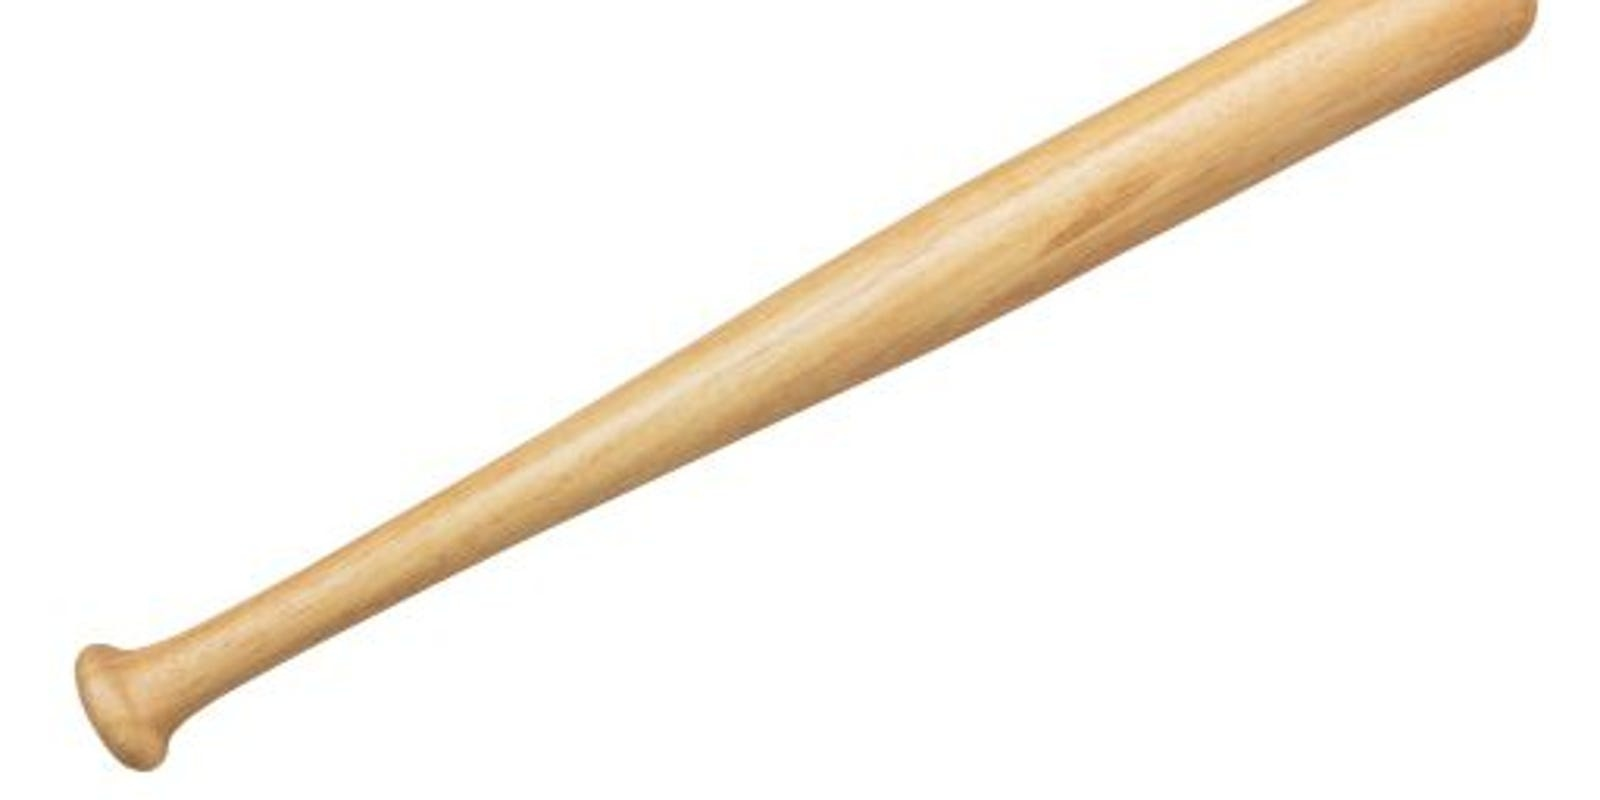bita: (94, 3, 1380, 748)
